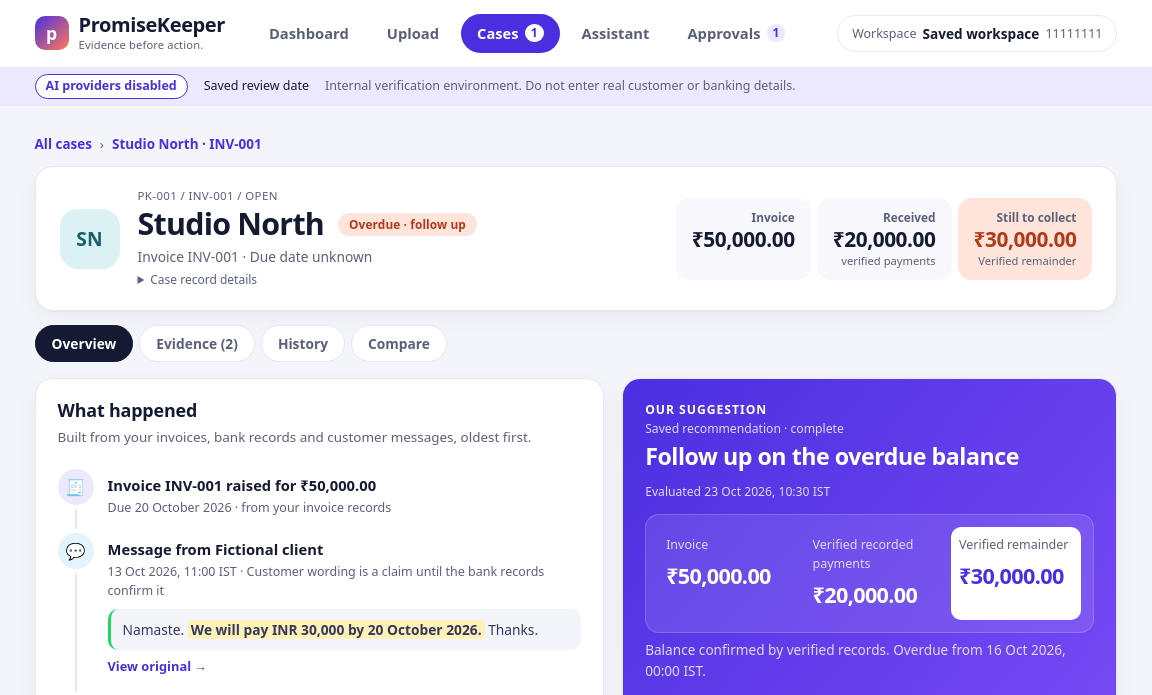
Test: opens on the Overview with the story, the highlighted promise and View original
The width and height of the screenshot is (1152, 695).
expect the heading "Studio North" is shown: met, box [138, 207, 324, 242]
expect the text "Invoice INV-001 raised for ₹50,000.00" is shown: met, box [108, 476, 376, 496]
What coordinates should you click on to do the following:
click the button "View original"
I would click on:
 (157, 667)
Its box is [108, 654, 207, 680].
(page scrolled)
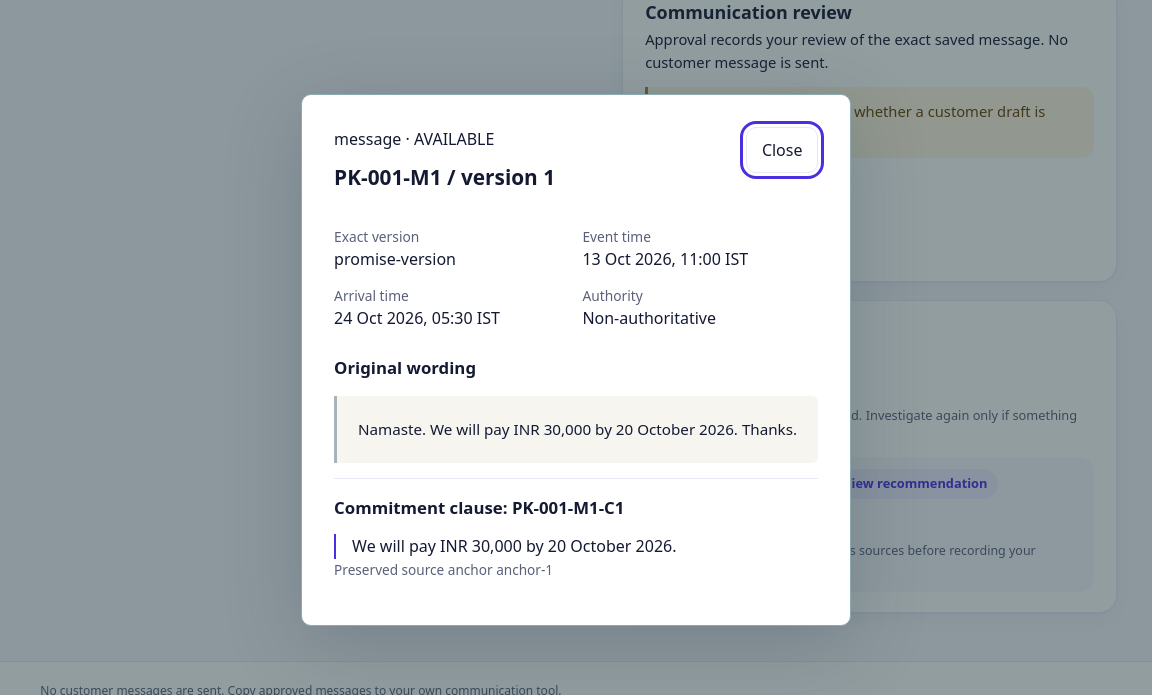
expect the heading "Communication review" is shown: met, box [645, 0, 852, 24]
expect the dialog is shown: met, box [301, 94, 851, 626]
